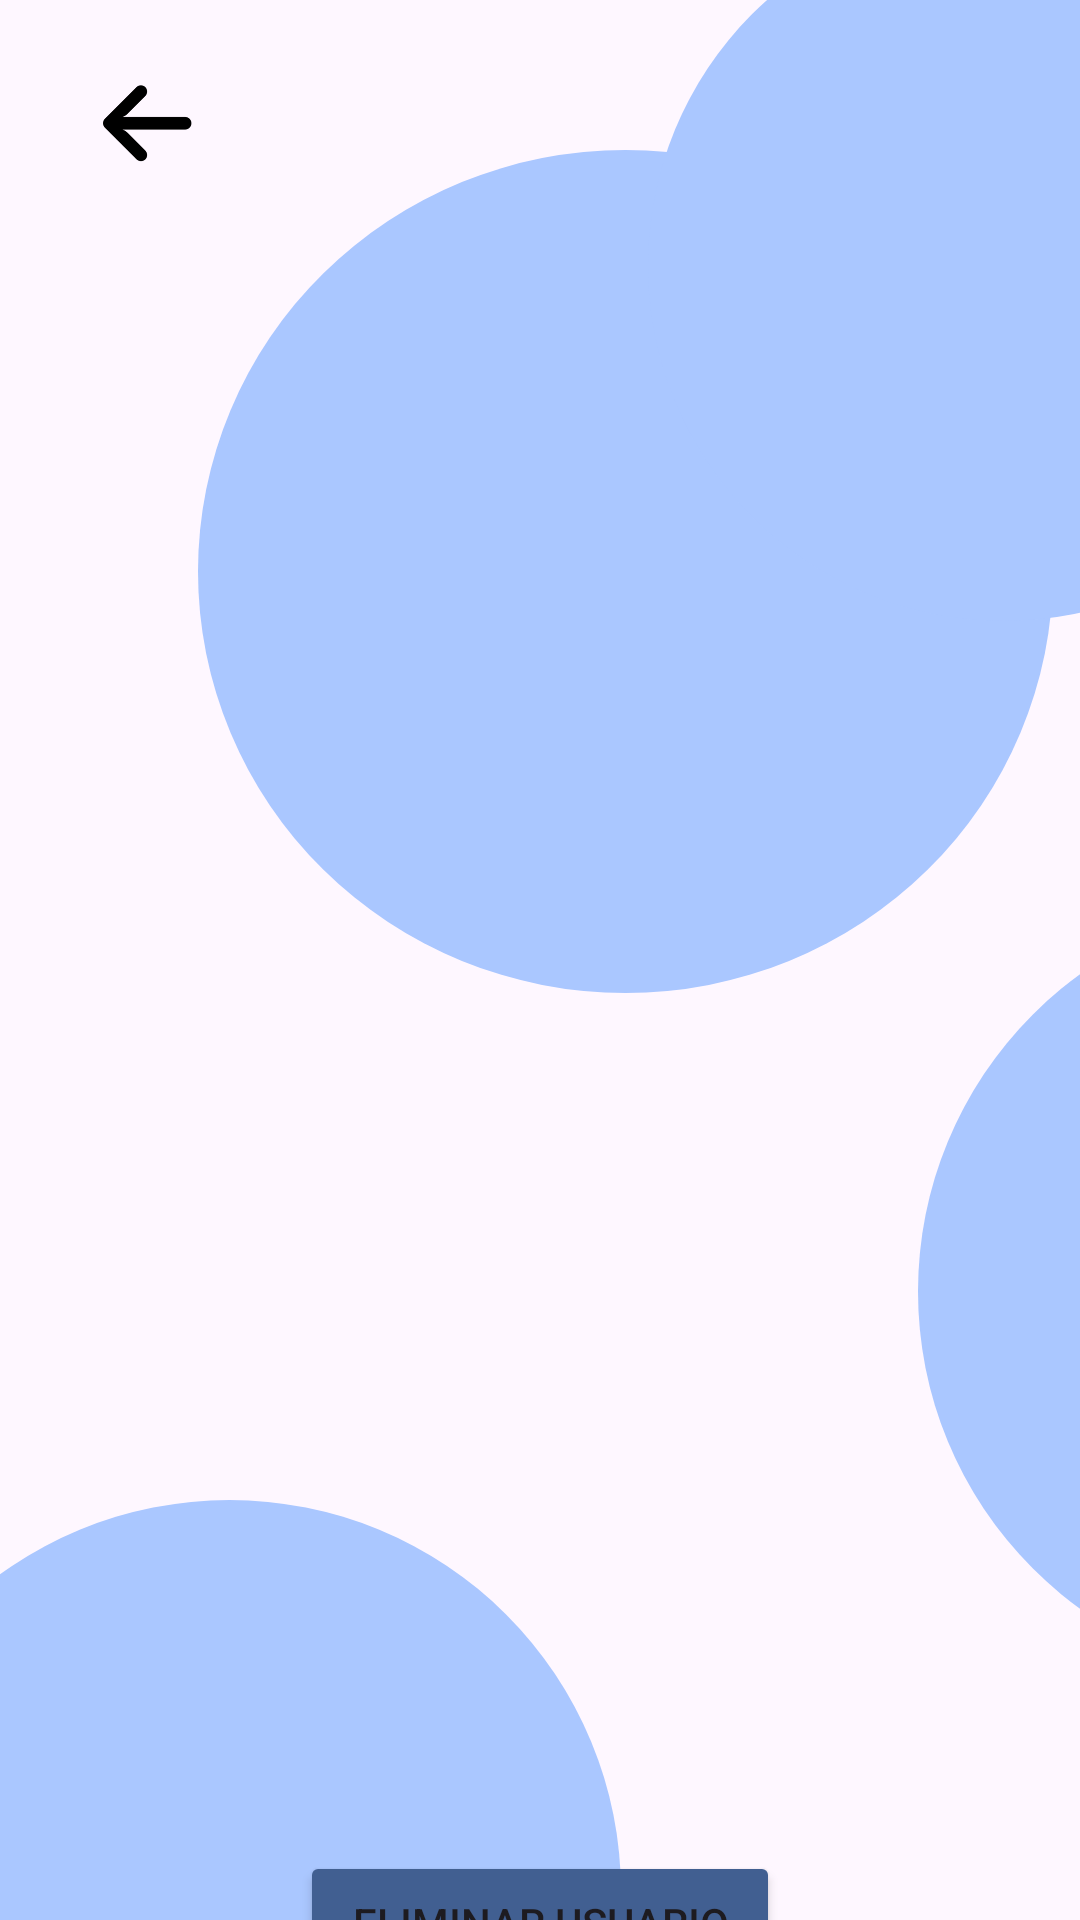

Locate icon controls on the screen. Image size 1080×1920, boxes as (x1, y1, x2, y2).
flecha: (103, 85, 192, 162)
